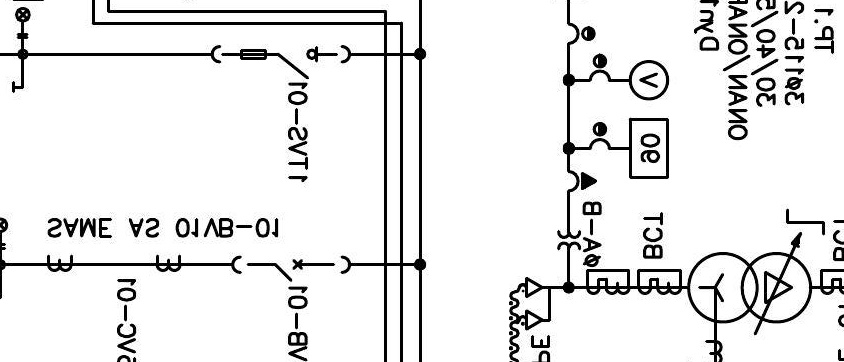11522_tx_dyn1: (686, 251, 813, 324)
22_breaker: (231, 254, 352, 283)
22_ds: (210, 44, 352, 81)
22_ll: (15, 6, 31, 40)
terminator_double: (525, 277, 552, 331)
v_m: (628, 59, 670, 102)
